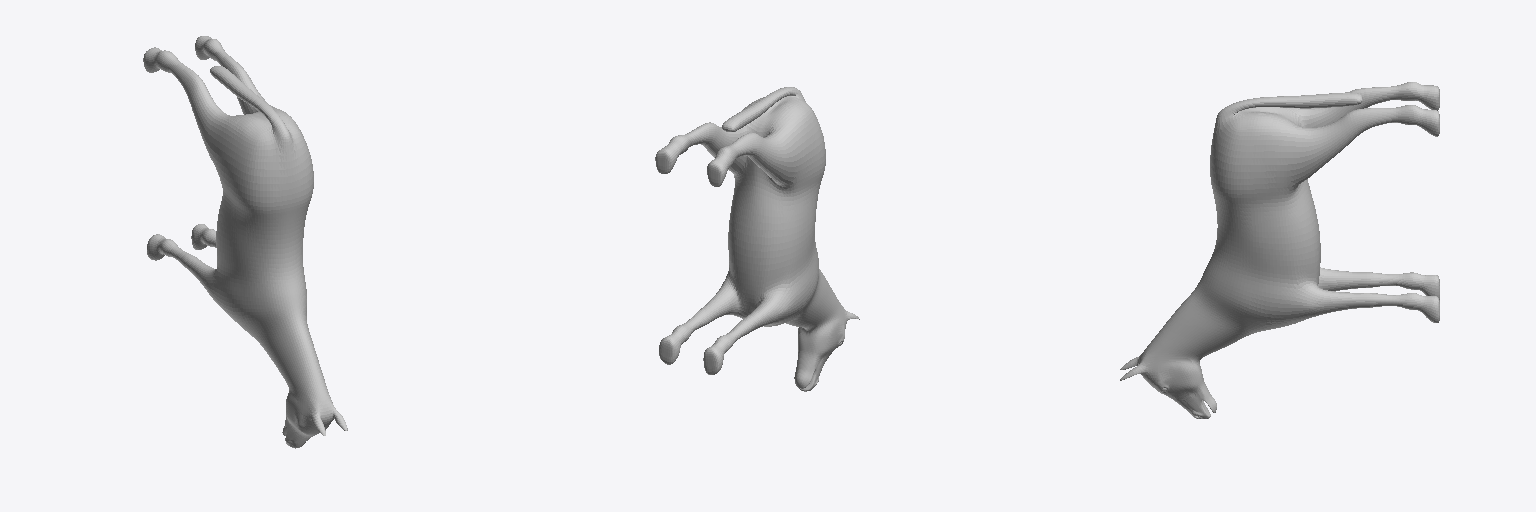
The model's file is 10026_Horse_v01_it2.obj.
3 views of the same model, side by side, from view 1: azimuth 30°, elevation 25°; view 2: azimuth 150°, elevation 25°; view 3: azimuth 270°, elevation 25° (orthographic).
Visible parts, largest first — view 1: 10026_Horse_v01; view 2: 10026_Horse_v01; view 3: 10026_Horse_v01.
Boxes of the visible parts, <box> form: 10026_Horse_v01: <box>143,36,347,448</box>; 10026_Horse_v01: <box>655,87,859,391</box>; 10026_Horse_v01: <box>1120,82,1439,418</box>.
Bounding box in the file's own units: 427 × 1791 × 1599.